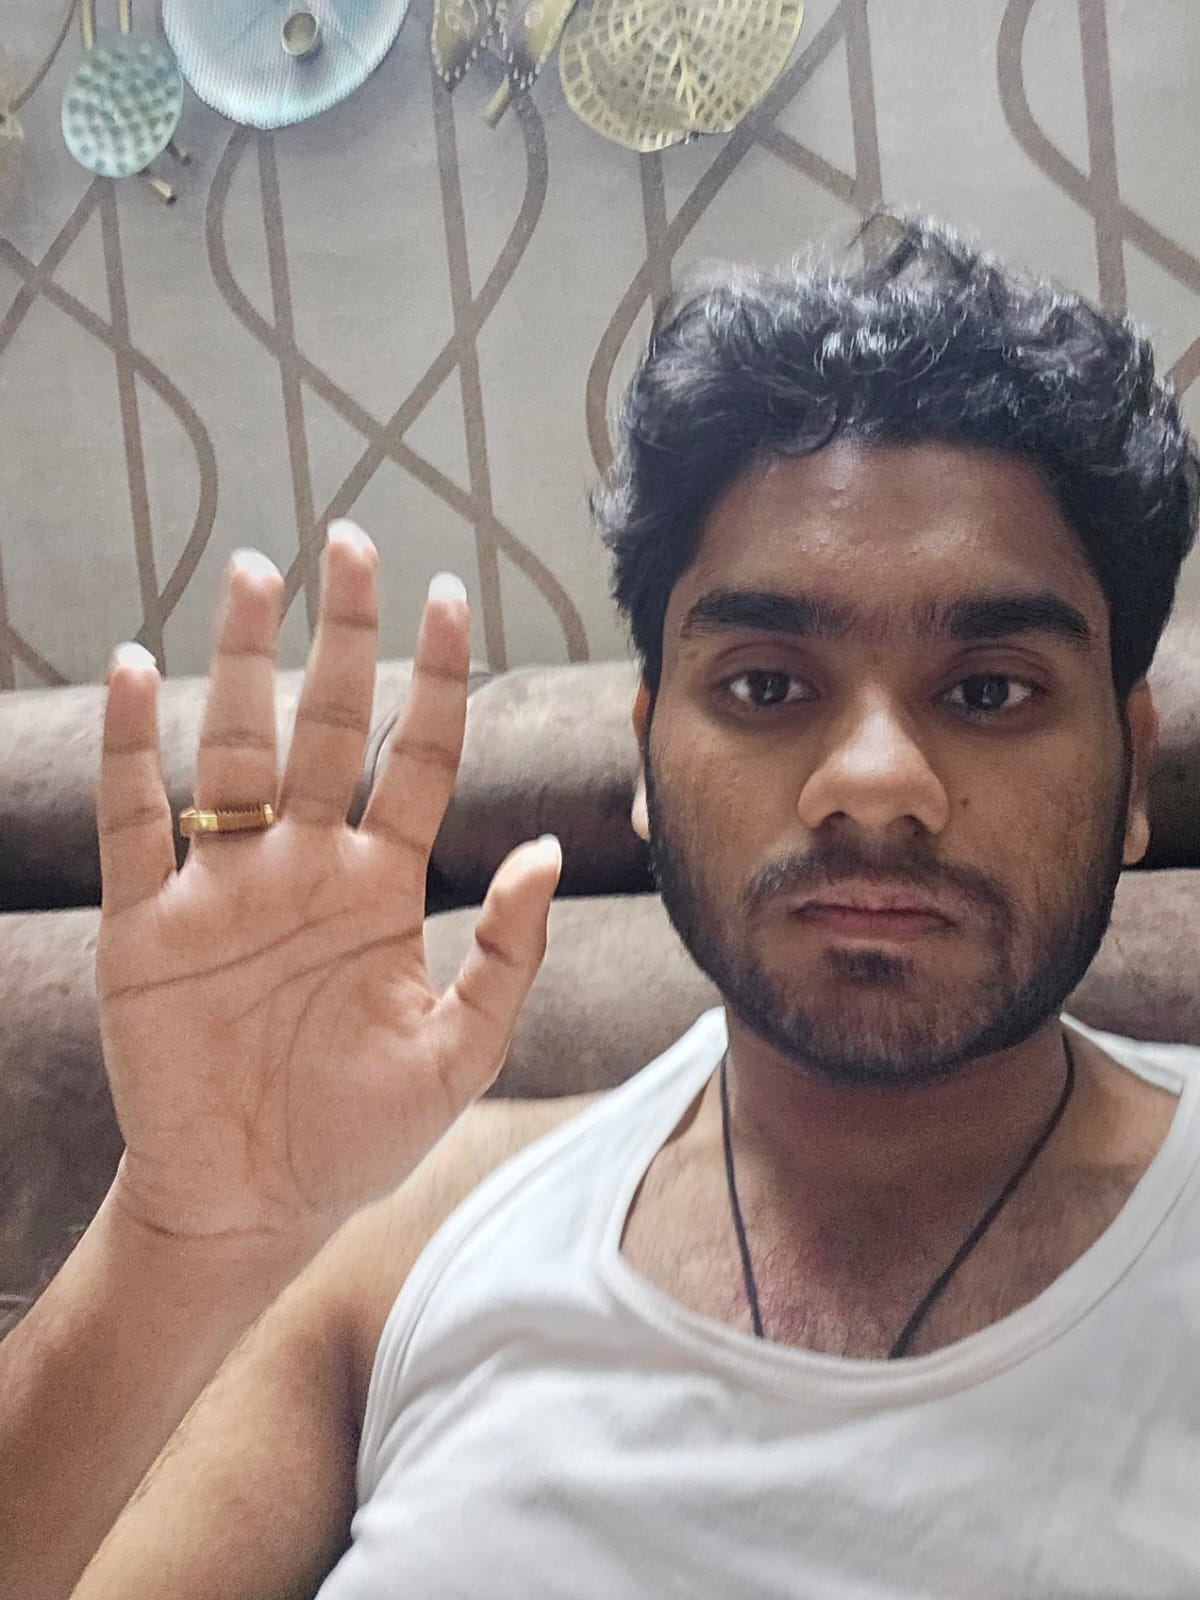hello: (96, 515, 563, 1249)
